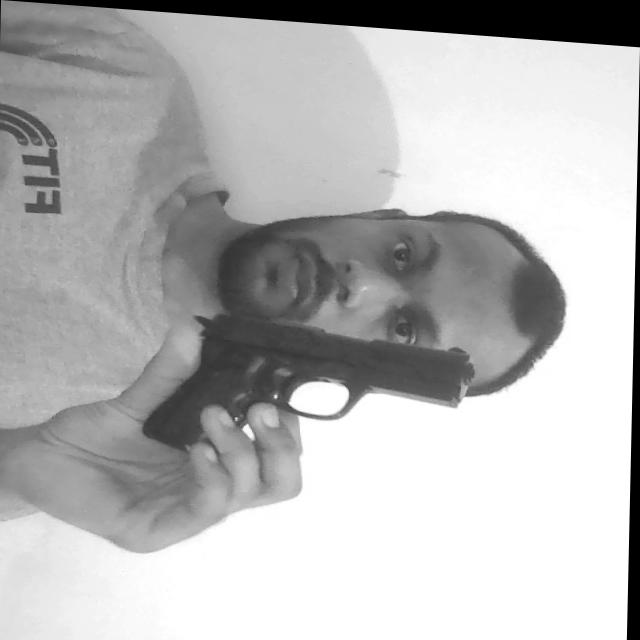handgun: (142, 305, 478, 466)
